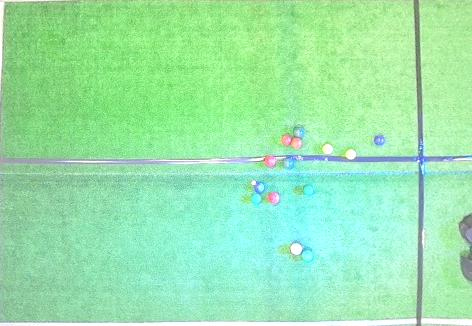blue: (374, 135, 385, 146), (254, 182, 265, 193)
green: (283, 157, 294, 169), (293, 127, 305, 138), (302, 250, 313, 261), (303, 186, 314, 196), (251, 194, 261, 204)
red: (268, 192, 280, 204), (264, 155, 276, 167), (290, 243, 302, 255), (291, 137, 302, 149), (281, 135, 291, 146)
vline: (413, 0, 471, 325), (0, 0, 7, 325)
white: (251, 181, 256, 185)
yellow: (345, 149, 356, 160), (322, 144, 333, 154)
